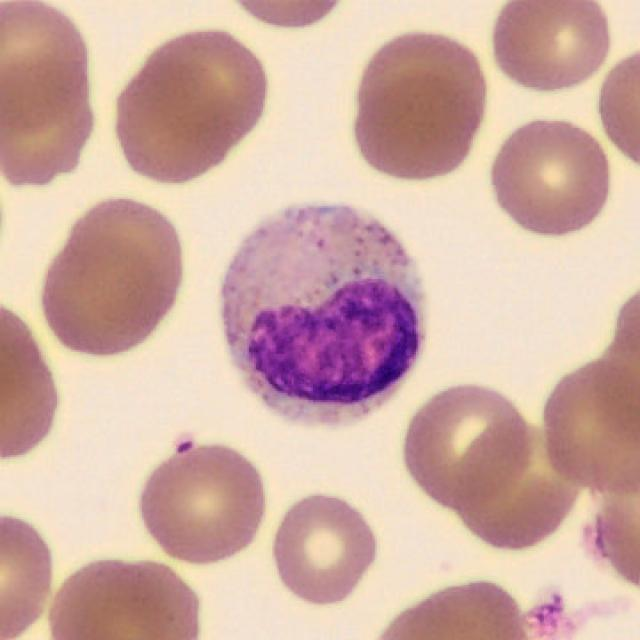Metamielocito: (220, 204, 425, 428)
